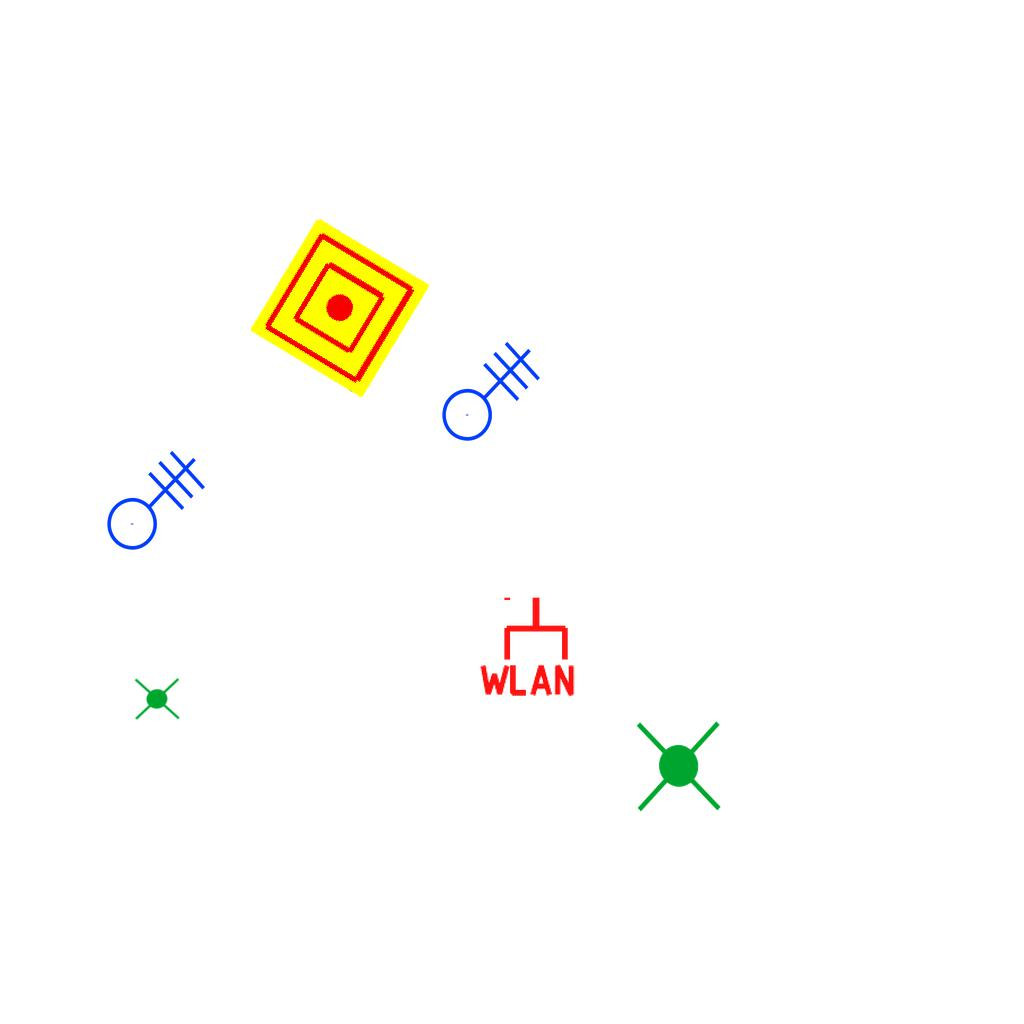Elektroanschluss_allgemein_400V_Geraeteanschlussdose_400V: (90, 438, 206, 551), (425, 329, 541, 442)
NAM-Nichtautomatischer_Melder: (249, 217, 431, 399)
Notlichtbaustein_in_Allgemeinbeleuchtug_engebaut_Einbau_(1UG_und_2UG_Aufbauvaria: (626, 716, 729, 816), (132, 674, 182, 725)
WLAN: (475, 593, 579, 698)
